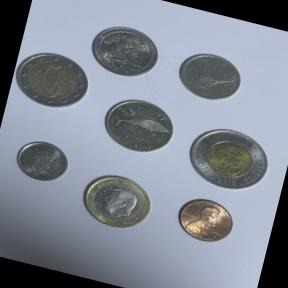1 Euro-B: (69, 162, 165, 242)
2 Euro-B: (7, 42, 96, 118)
Canada-10cent-B: (6, 130, 77, 191)
Canada-2Dollar-B: (172, 110, 281, 205)
Croatia-2Kune-B: (92, 86, 184, 166)
US-1cent-B: (166, 186, 243, 252)
US-25cent-B: (83, 16, 166, 86)
